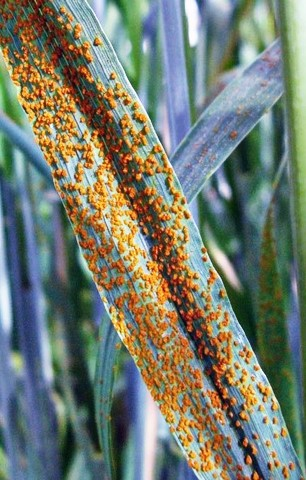Leaf Rust: (6, 28, 279, 441)
